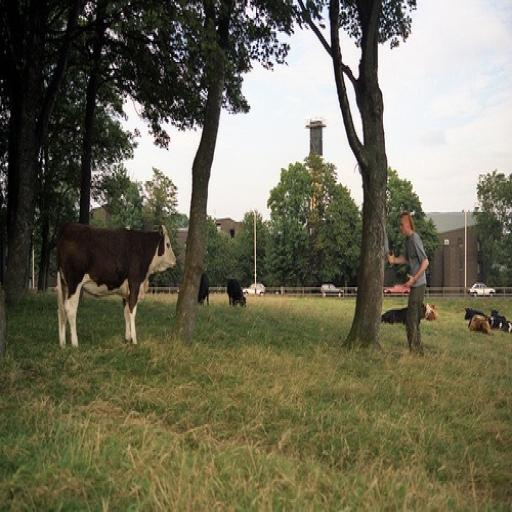car: (469, 282, 496, 298), (321, 280, 344, 298), (384, 284, 411, 295), (244, 281, 264, 295)
cow: (50, 210, 177, 356), (224, 279, 246, 306), (471, 314, 490, 338), (488, 318, 511, 334), (383, 305, 405, 321), (464, 310, 489, 321), (199, 276, 209, 303), (424, 305, 438, 321)
person: (384, 207, 436, 360)
